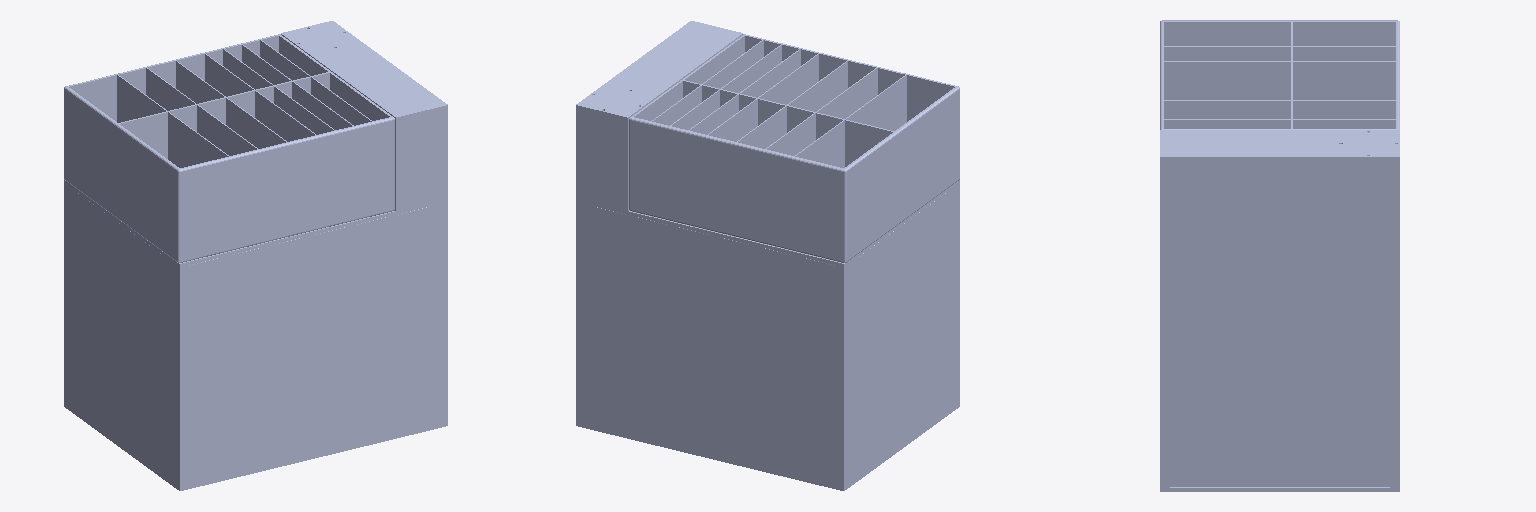
The robot description file, URDF, robot "booksink2":
<?xml version="1.0" encoding="utf-8"?>
<!-- This URDF was automatically created by SolidWorks to URDF Exporter! Originally created by [author] ([email redacted]) 
     Commit Version: 1.6.0-4-g7f85cfe  Build Version: 1.6.7995.38578
     For more information, please see http://wiki.ros.org/sw_urdf_exporter -->
<robot
  name="booksink2">
  <link
    name="booksink_link">
    <inertial>
      <origin
        xyz="0.395167078135071 0.7376912417158 0.683661687108035"
        rpy="0 0 0" />
      <mass
        value="41.6884762061748" />
      <inertia
        ixx="2.62451743594393"
        ixy="-0.58970440848364"
        ixz="-0.000559520034310422"
        iyy="3.12172134247772"
        iyz="-2.18230870357685E-06"
        izz="2.98496788067533" />
    </inertial>
    <visual>
      <origin
        xyz="0 0 0"
        rpy="0 0 0" />
      <geometry>
        <mesh
          filename="package://booksink2/meshes/booksink_link.STL" />
      </geometry>
      <material
        name="">
        <color
          rgba="0.792156862745098 0.819607843137255 0.933333333333333 1" />
      </material>
    </visual>
    <collision>
      <origin
        xyz="0 0 0"
        rpy="0 0 0" />
      <geometry>
        <mesh
          filename="package://booksink2/meshes/booksink_link.STL" />
      </geometry>
    </collision>
  </link>
</robot>

--- Render facts (derived) ---
3 views of the same robot in one strip: view 1: azimuth 30°, elevation 25°; view 2: azimuth 150°, elevation 25°; view 3: azimuth 270°, elevation 25° (orthographic).
Robot: booksink2 — 1 links, 0 joints (none); root link booksink_link; default pose: all joints at 0.
Links seen in each view (by area): view 1: booksink_link; view 2: booksink_link; view 3: booksink_link.
Link boxes in pixels (left/top/right/bottom): booksink_link: left=64, top=21, right=447, bottom=490; booksink_link: left=576, top=21, right=959, bottom=490; booksink_link: left=1160, top=20, right=1399, bottom=491.
Bounding box of the posed robot: 0.769 × 0.57 × 0.875 m (x, y, z).
1 mesh visuals loaded from 1 distinct referenced files (1 binary STL).